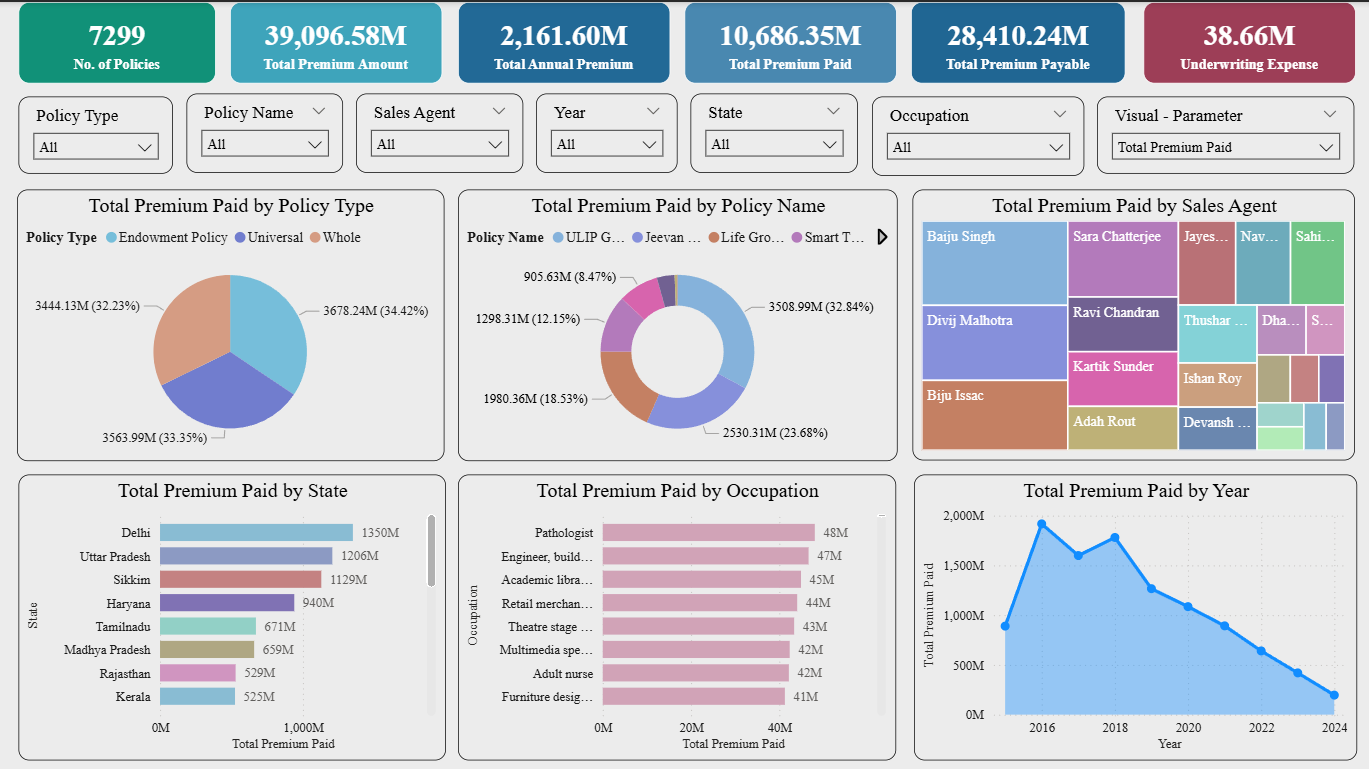

The dashboard page shown, as its layout file describes it:
{"tool":"powerbi","page":{"name":"Insurance Overview","canvas":[1280,720],"ordinal":1},"visuals":[{"type":"card","fields":{"Values":["CountNonNull(DM Customer_Detail_Table.Customer ID)"]},"box":[18,0,184,76],"z":0},{"type":"card","fields":{"Values":["Sum(FCT Insurance_Policy_Table.Total Annual Premium)"]},"box":[428,0,198,76],"z":1000},{"type":"card","fields":{"Values":["Sum(FCT Insurance_Policy_Table.Total Premium Amount)"]},"box":[216,0,198,76],"z":2000},{"type":"card","fields":{"Values":["Sum(FCT Insurance_Policy_Table.Total Premium Paid)"]},"box":[640,0,198,76],"z":3000},{"type":"card","fields":{"Values":["Sum(FCT Insurance_Policy_Table.Total Premium Payable)"]},"box":[850,0,200,76],"z":4000},{"type":"card","fields":{"Values":["FCT Insurance_Policy_Table.Underwriting Expense"]},"box":[1068,0,198,76],"z":5000},{"type":"slicer","fields":{"Values":["DM Policy_Type.Policy Type"]},"box":[18,88,144,72],"z":6000},{"type":"slicer","fields":{"Values":["DM Policy_Protection_Plan.Policy Name"]},"box":[174.3,86,146,74],"z":7000},{"type":"slicer","fields":{"Values":["DM Insurance_Agent_Table.Sales Agent"]},"box":[332.7,86,156,74],"z":8000},{"type":"slicer","fields":{"Values":["FCT Insurance_Policy_Table.Start Date.Variation.Date Hierarchy.Year"]},"box":[501,86,132,74],"z":9000},{"type":"slicer","fields":{"Values":["DM Customer_Detail_Table.State"]},"box":[645.3,86,156,74],"z":10000},{"type":"slicer","fields":{"Values":["DM Customer_Detail_Table.Occupation"]},"box":[813.7,88,198,74],"z":11000},{"type":"pieChart","fields":{"Y":["FCT Insurance_Policy_Table.Total_Premium_Paid"],"Category":["DM Policy_Type.Policy Type"]},"box":[16.7,175,398.3,253.3],"z":12000},{"type":"donutChart","fields":{"Y":["FCT Insurance_Policy_Table.Total_Premium_Paid"],"Category":["DM Policy_Protection_Plan.Policy Name"]},"box":[428.3,175,410,253.3],"z":13000},{"type":"treemap","fields":{"Values":["FCT Insurance_Policy_Table.Total_Premium_Paid"],"Group":["DM Insurance_Agent_Table.Sales Agent"]},"box":[852.5,175,412.5,252.5],"z":14000},{"type":"barChart","fields":{"Y":["FCT Insurance_Policy_Table.Total_Premium_Paid"],"Category":["DM Customer_Detail_Table.State"]},"box":[18.3,440,398.3,266.7],"z":15000},{"type":"barChart","fields":{"Y":["FCT Insurance_Policy_Table.Total_Premium_Paid"],"Category":["DM Customer_Detail_Table.Occupation"]},"box":[428.3,440,408.3,266.7],"z":16000},{"type":"areaChart","fields":{"Y":["FCT Insurance_Policy_Table.Total_Premium_Paid"],"Category":["FCT Insurance_Policy_Table.Start Date.Variation.Date Hierarchy.Year"]},"box":[853.3,440,413.3,266.7],"z":17000},{"type":"slicer","fields":{"Values":["Visual - Parameter.Visual - Parameter"]},"box":[1024,88,240,72],"z":18000}]}

Visuals, with their boxes in screenshot pixels (x1, y1, x2, y2), scaled from the page's 1280x720 canvas onto the 1369x769 screenshot:
card - CountNonNull(DM Customer_Detail_Table.Customer ID): <bbox>19, 0, 216, 81</bbox>
card - Sum(FCT Insurance_Policy_Table.Total Annual Premium): <bbox>458, 0, 670, 81</bbox>
card - Sum(FCT Insurance_Policy_Table.Total Premium Amount): <bbox>231, 0, 443, 81</bbox>
card - Sum(FCT Insurance_Policy_Table.Total Premium Paid): <bbox>684, 0, 896, 81</bbox>
card - Sum(FCT Insurance_Policy_Table.Total Premium Payable): <bbox>909, 0, 1123, 81</bbox>
card - FCT Insurance_Policy_Table.Underwriting Expense: <bbox>1142, 0, 1354, 81</bbox>
slicer - DM Policy_Type.Policy Type: <bbox>19, 94, 173, 171</bbox>
slicer - DM Policy_Protection_Plan.Policy Name: <bbox>186, 92, 343, 171</bbox>
slicer - DM Insurance_Agent_Table.Sales Agent: <bbox>356, 92, 523, 171</bbox>
slicer - FCT Insurance_Policy_Table.Start Date.Variation.Date Hierarchy.Year: <bbox>536, 92, 677, 171</bbox>
slicer - DM Customer_Detail_Table.State: <bbox>690, 92, 857, 171</bbox>
slicer - DM Customer_Detail_Table.Occupation: <bbox>870, 94, 1082, 173</bbox>
pieChart - FCT Insurance_Policy_Table.Total_Premium_Paid x DM Policy_Type.Policy Type: <bbox>18, 187, 444, 457</bbox>
donutChart - FCT Insurance_Policy_Table.Total_Premium_Paid x DM Policy_Protection_Plan.Policy Name: <bbox>458, 187, 897, 457</bbox>
treemap - FCT Insurance_Policy_Table.Total_Premium_Paid x DM Insurance_Agent_Table.Sales Agent: <bbox>912, 187, 1353, 457</bbox>
barChart - FCT Insurance_Policy_Table.Total_Premium_Paid x DM Customer_Detail_Table.State: <bbox>20, 470, 446, 755</bbox>
barChart - FCT Insurance_Policy_Table.Total_Premium_Paid x DM Customer_Detail_Table.Occupation: <bbox>458, 470, 895, 755</bbox>
areaChart - FCT Insurance_Policy_Table.Total_Premium_Paid x FCT Insurance_Policy_Table.Start Date.Variation.Date Hierarchy.Year: <bbox>913, 470, 1355, 755</bbox>
slicer - Visual - Parameter.Visual - Parameter: <bbox>1095, 94, 1352, 171</bbox>
